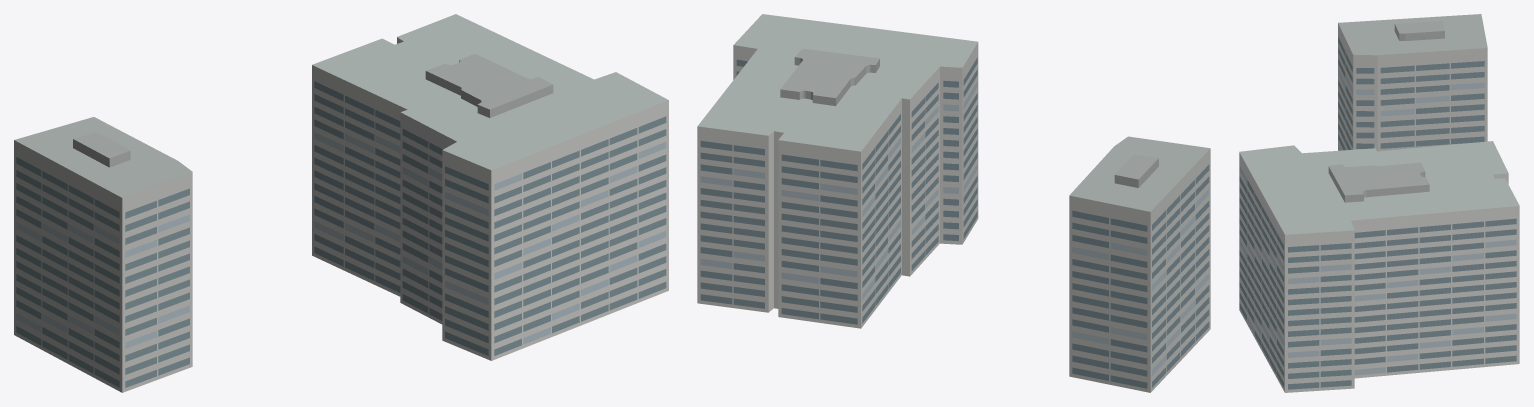
Rendered from apt-a11034001.glb.
3 renders of one model, left to right at view 1: azimuth 30°, elevation 25°; view 2: azimuth 150°, elevation 25°; view 3: azimuth 270°, elevation 25°, orthographic. The views are drawn at different scales.
Visible parts, largest first — view 1: apt-a11034001; view 2: apt-a11034001; view 3: apt-a11034001.
Part boxes in pixels (bbox=[...]): apt-a11034001: bbox=[14, 14, 668, 392]; apt-a11034001: bbox=[697, 14, 1210, 392]; apt-a11034001: bbox=[1239, 14, 1519, 392].
Size of the model in its own units: 135 by 49 by 73.56.
